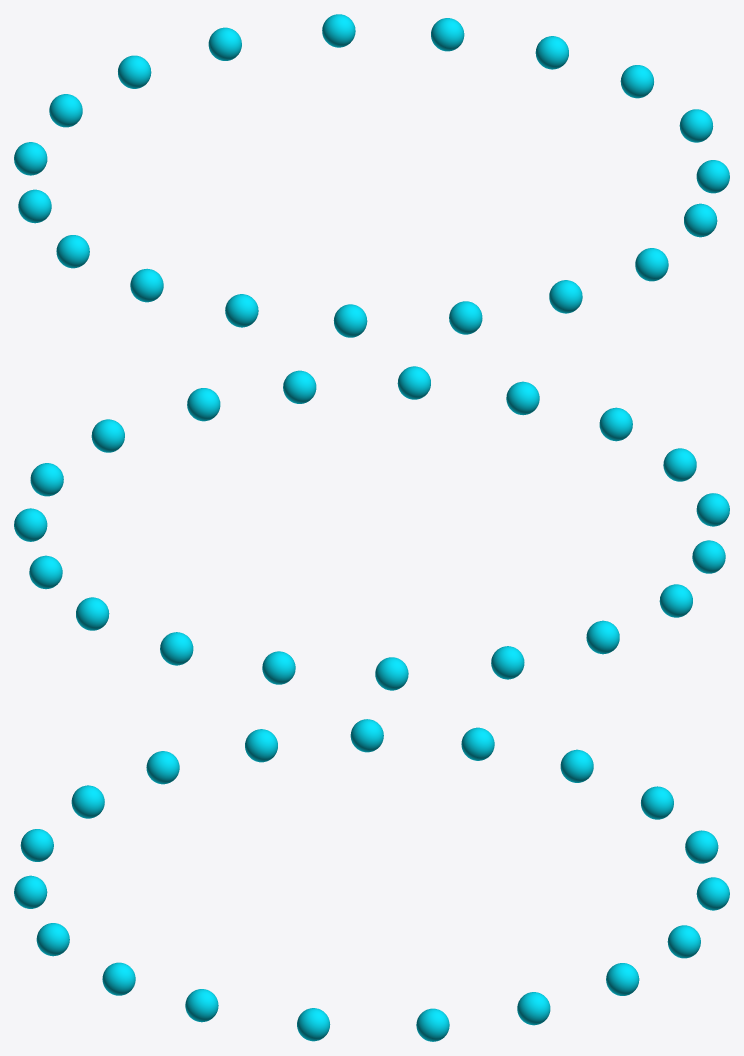
3 renders of one model, top to bottom at view 1: azimuth 30°, elevation 25°; view 2: azimuth 150°, elevation 25°; view 3: azimuth 270°, elevation 25°, orthographic.
Parts seen in each view (by area): view 1: Sphere050; view 2: Sphere050; view 3: Sphere050.
Part boxes in pixels (left/top/right/bottom): Sphere050: left=14, top=14, right=729, bottom=337; Sphere050: left=14, top=366, right=729, bottom=690; Sphere050: left=14, top=719, right=729, bottom=1041.
Bounding box in the file's own units: 177 × 8.22 × 177.
